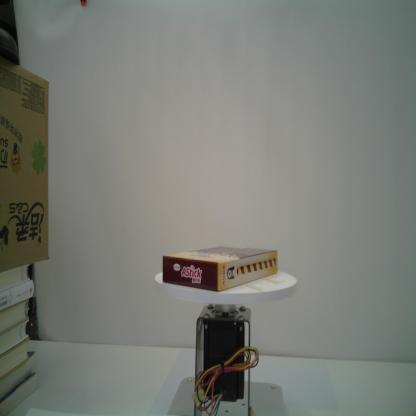Dessert: (160, 244, 280, 294)
